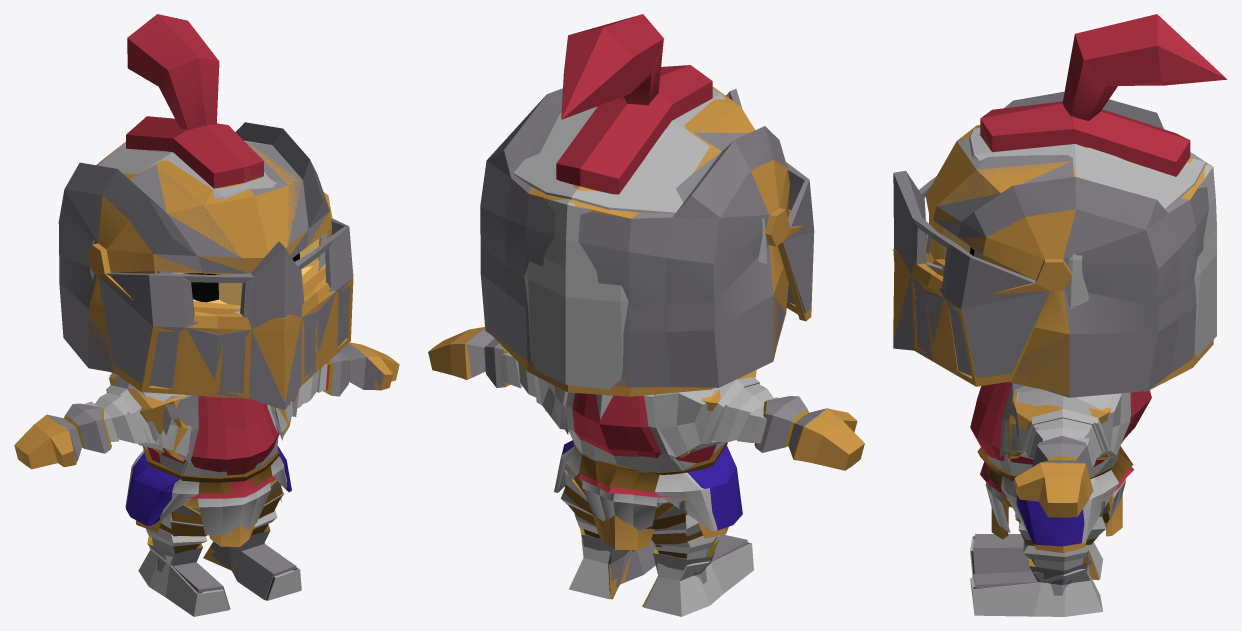
The model's file is Player_edited.fbx.
The picture shows the model from 3 angles, left to right: view 1: azimuth 30°, elevation 25°; view 2: azimuth 150°, elevation 25°; view 3: azimuth 270°, elevation 25°; orthographic projection. The views are drawn at different scales.
Parts seen in each view (by area): view 1: helmet 5, helmet 4, knight armor 3, knight armor 1, helmet 2, knight armor 4, knight armor 5, pants 5, pants 3, knight armor 2, helmet 1, pants 1 (+1 smaller); view 2: helmet 5, helmet 1, helmet 4, knight armor 2, helmet 2, knight armor 3, pants 3, knight armor 4, knight armor 1, knight armor 5, pants 5, pants 1; view 3: helmet 5, helmet 4, helmet 2, helmet 1, knight armor 3, pants 3, knight armor 4, knight armor 2, pants 5, knight armor 1, knight armor 5.
Boxes of the visible parts, <box> form: helmet 5: <box>58,122,353,410</box>; helmet 4: <box>88,116,353,400</box>; knight armor 3: <box>84,364,327,535</box>; knight armor 1: <box>142,395,279,498</box>; helmet 2: <box>127,14,327,238</box>; knight armor 4: <box>14,342,399,546</box>; knight armor 5: <box>46,343,383,463</box>; pants 5: <box>147,479,296,608</box>; pants 3: <box>138,488,301,616</box>; knight armor 2: <box>106,373,303,525</box>; helmet 1: <box>90,140,326,280</box>; pants 1: <box>159,479,297,608</box>; helmet 5: <box>480,88,814,387</box>; helmet 1: <box>513,89,766,389</box>; helmet 4: <box>493,65,813,396</box>; knight armor 2: <box>534,375,729,531</box>; helmet 2: <box>543,14,667,267</box>; knight armor 3: <box>500,352,778,530</box>; pants 3: <box>560,479,753,616</box>; knight armor 4: <box>428,327,864,550</box>; knight armor 1: <box>567,393,727,497</box>; knight armor 5: <box>464,329,829,460</box>; pants 5: <box>564,469,747,606</box>; pants 1: <box>564,476,749,599</box>; helmet 5: <box>893,91,1208,397</box>; helmet 4: <box>893,101,1213,395</box>; helmet 2: <box>1062,14,1227,307</box>; helmet 1: <box>962,127,1216,357</box>; knight armor 3: <box>985,385,1125,546</box>; pants 3: <box>970,500,1109,616</box>; knight armor 4: <box>991,387,1122,553</box>; knight armor 2: <box>984,388,1150,542</box>; pants 5: <box>973,500,1107,595</box>; knight armor 1: <box>970,382,1151,497</box>; knight armor 5: <box>999,383,1113,477</box>.
Size of the model in its own units: 135 by 184 by 97.38.
